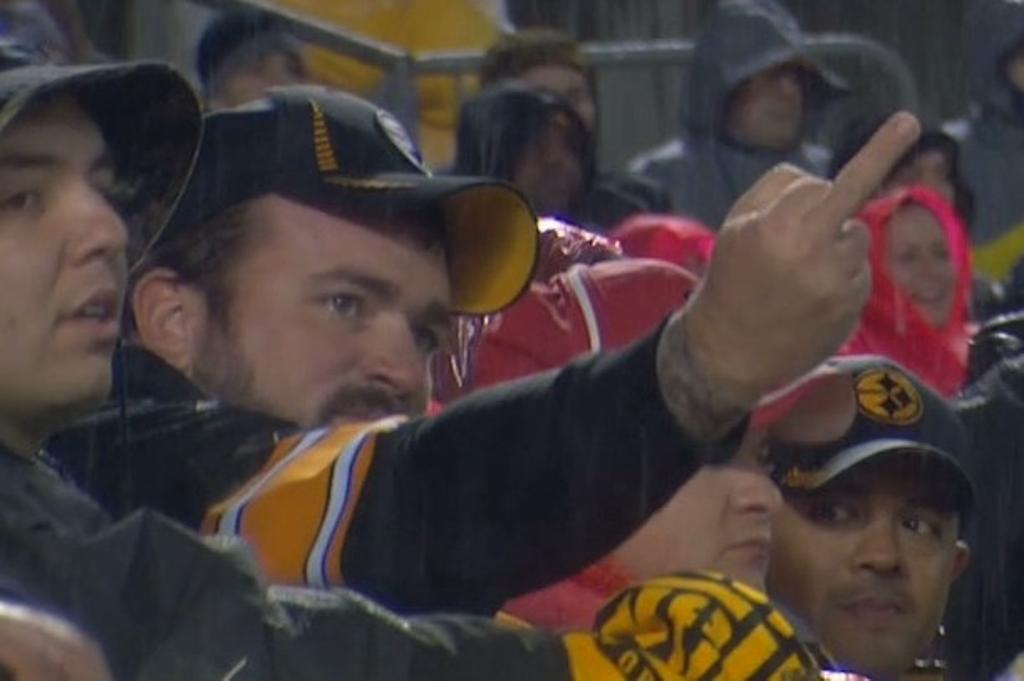face: (236, 178, 444, 478), (624, 364, 784, 606), (12, 84, 132, 404), (802, 408, 954, 652), (512, 56, 596, 178), (882, 196, 950, 336), (738, 50, 806, 150)
